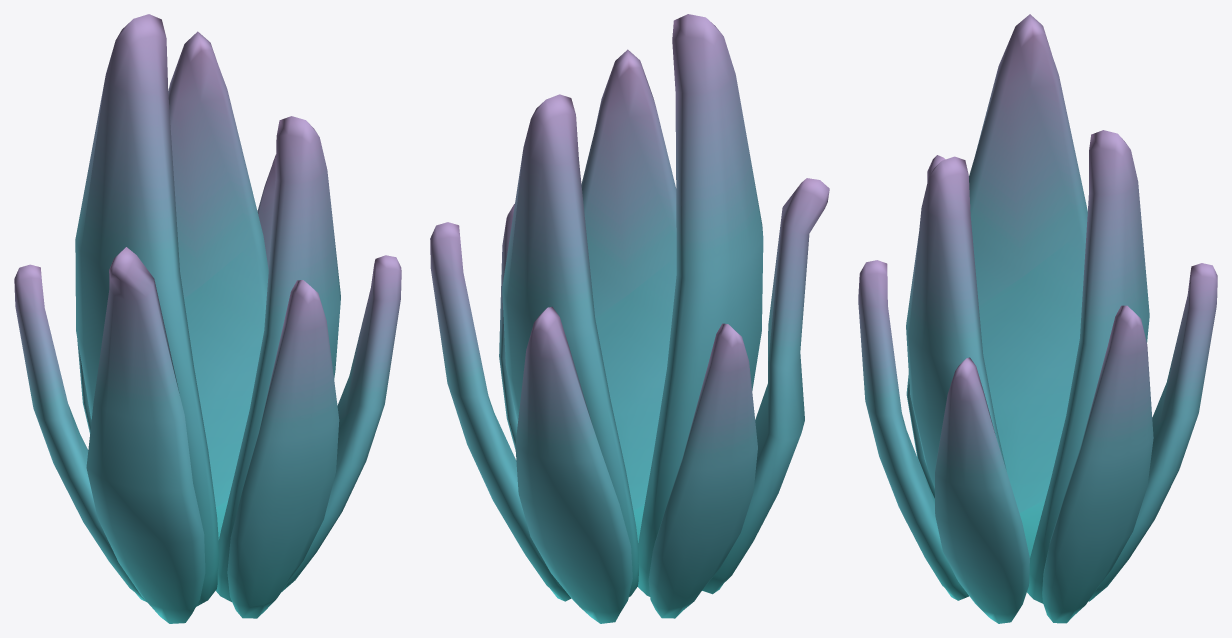
Rendered from pequeno_coral01.fbx.
The picture shows the model from 3 angles, left to right: view 1: azimuth 30°, elevation 25°; view 2: azimuth 150°, elevation 25°; view 3: azimuth 270°, elevation 25°; orthographic projection. The views are drawn at different scales.
Visible parts, largest first — view 1: Plant.007; view 2: Plant.007; view 3: Plant.007.
Part boxes in pixels (x1,y1,x2,y2): Plant.007: (14,14,401,623); Plant.007: (430,14,829,623); Plant.007: (858,14,1217,623).
Bounding box in the file's own units: 638 × 1168 × 689.
Materials: 1 (1 with a texture image).
